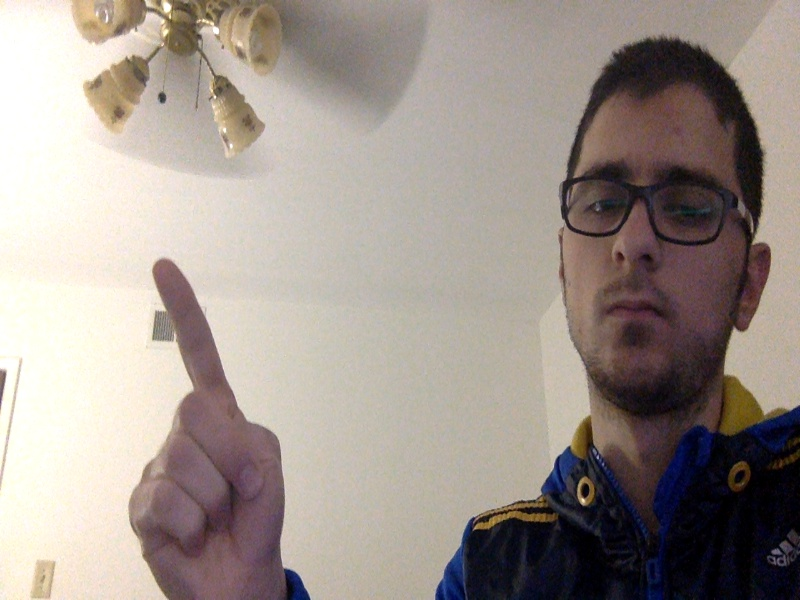1-hand: (125, 259, 286, 600)
